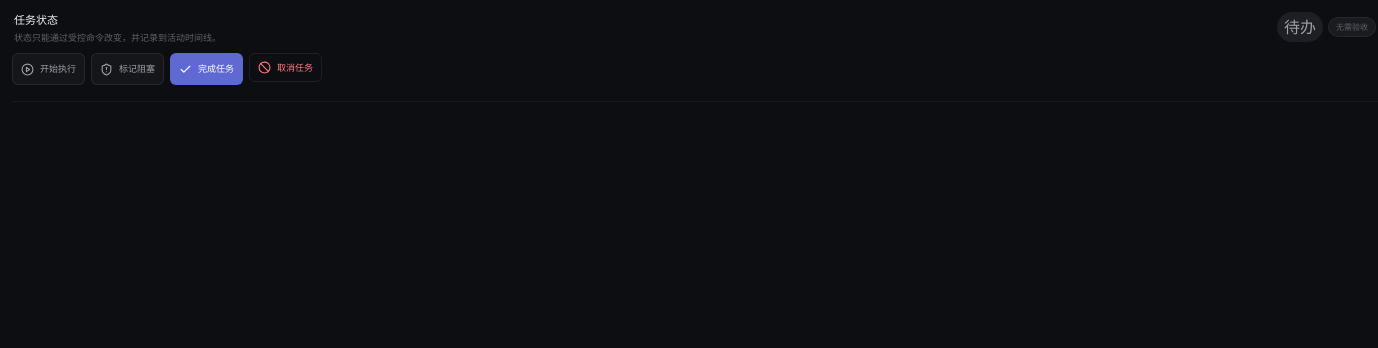
it: TaskLifecycleSection › explains that cancelling ends current assignments
What coordinates should you click on to do the following:
click the button "取消任务"
I would click on:
 (286, 68)
Its box is [249, 53, 322, 82].
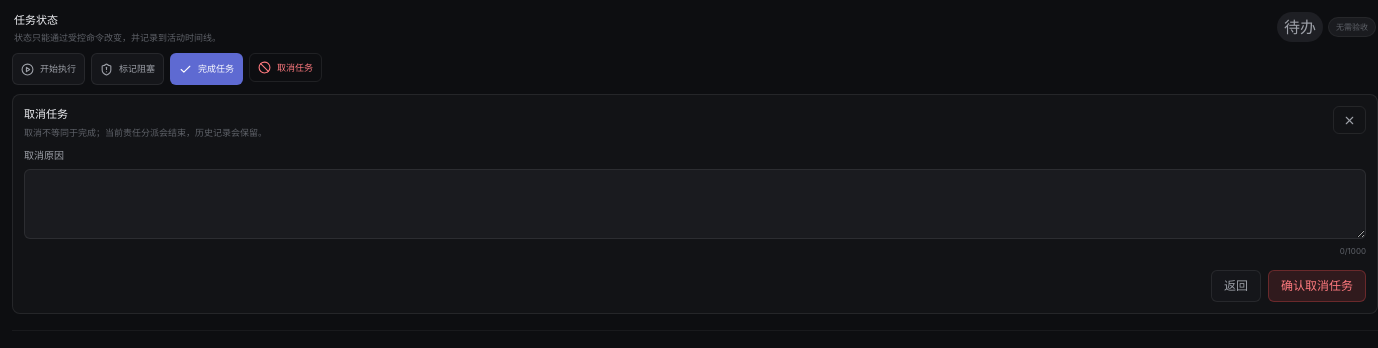
Now the text "取消不等同于完成；当前责任分派会结束，历史记录会保留。" is shown, box [24, 126, 267, 139]
